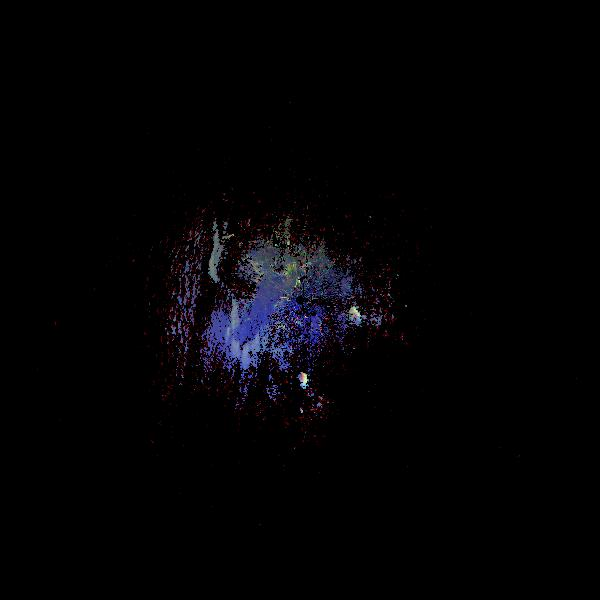roost: (348, 304, 366, 322), (295, 370, 310, 385)
